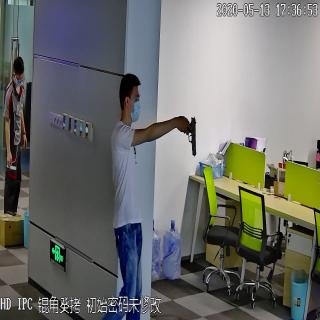gun: (181, 113, 199, 155)
